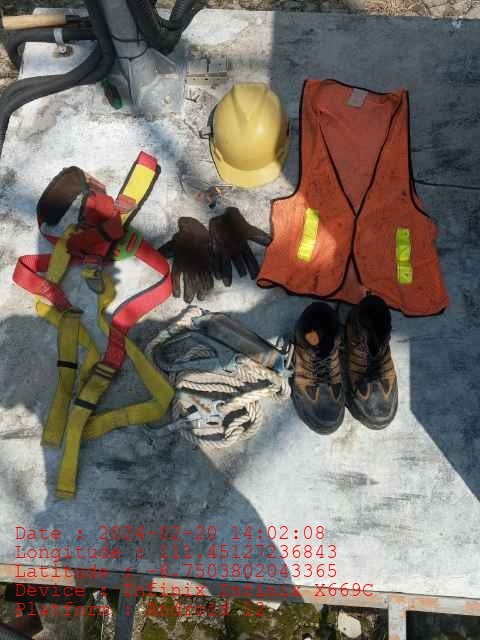HELM: (210, 83, 289, 187)
ROMPI: (290, 79, 421, 306)
SARUNG_TANGAN: (206, 204, 268, 287), (152, 215, 210, 301)
SEPATU: (287, 292, 398, 436)
TAMBANG_SLING: (145, 307, 289, 444)
